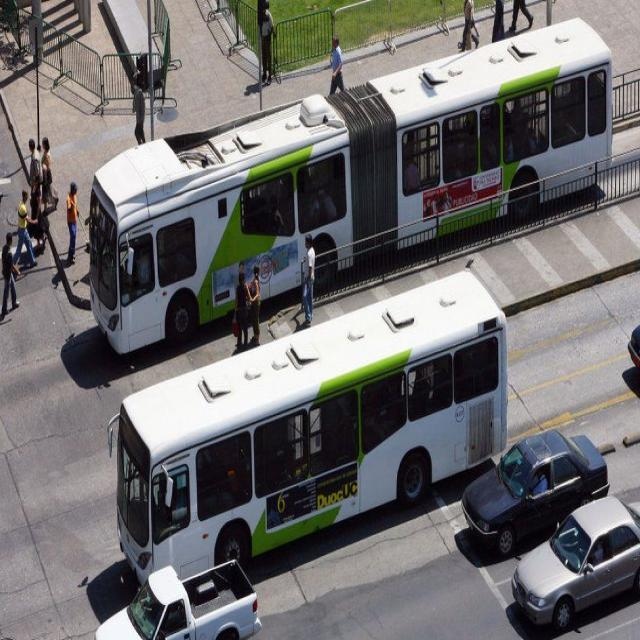AB: (76, 6, 620, 372)
